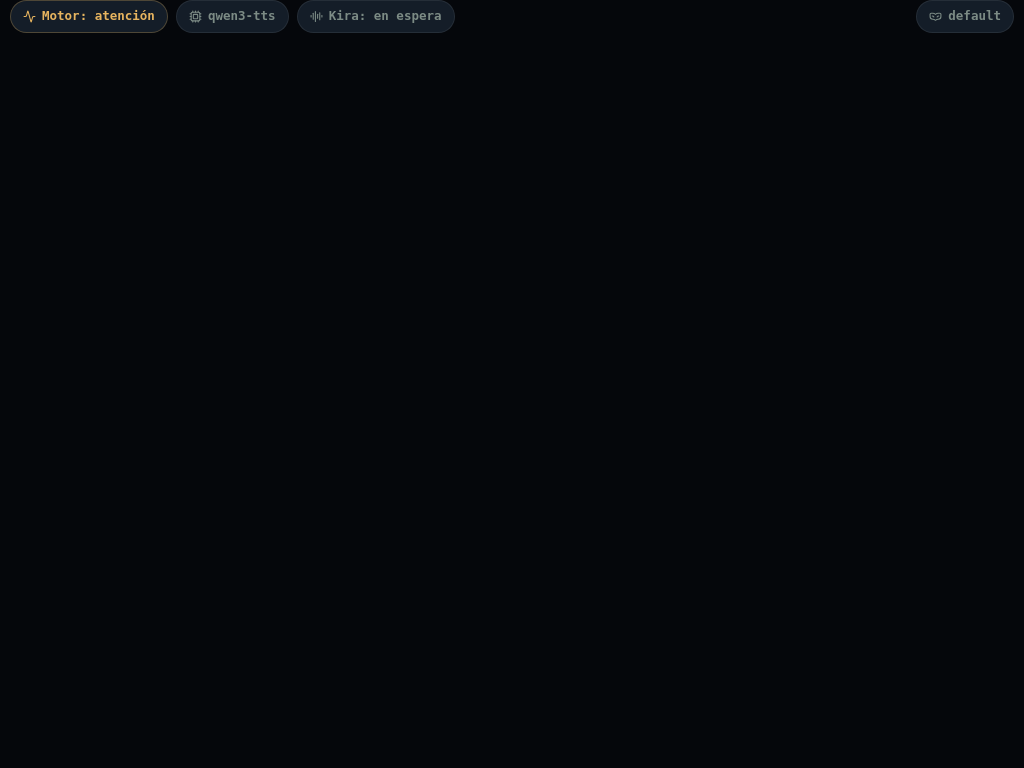
Scenario: StatusRail (spec §3a — calm cockpit readout) › rolls up health=yellow (model ready) as an 'atención' state naming the dimension in its popover
Step 1. Click the button "Motor: atención" → (89, 16), box [10,0,168,33]
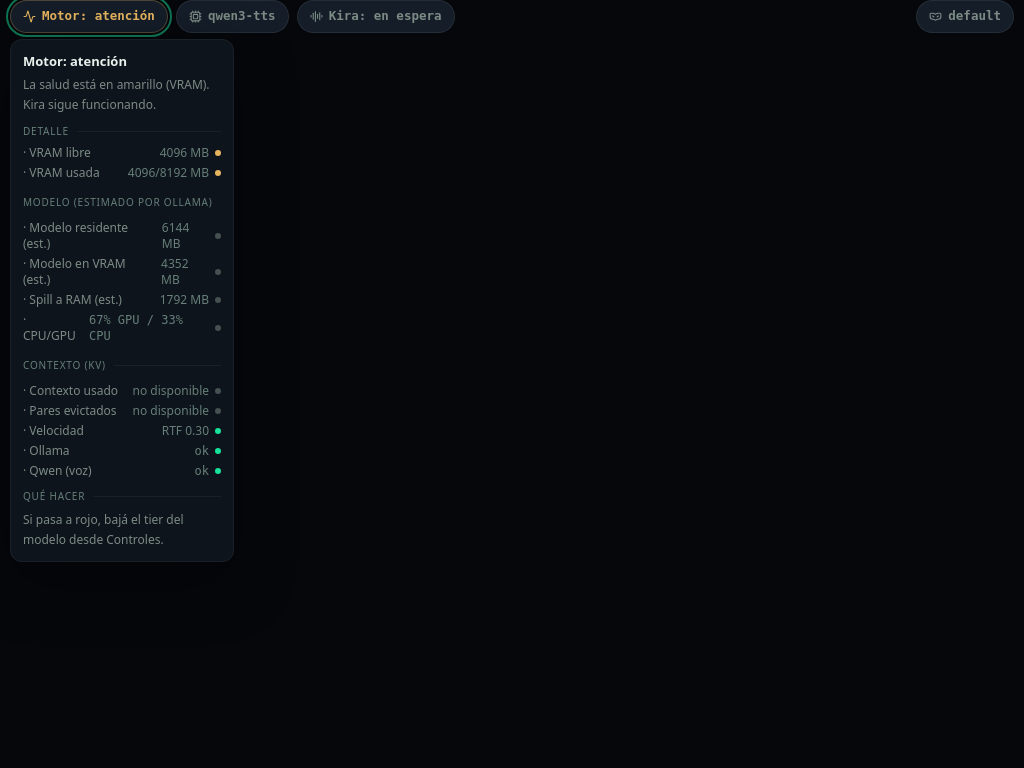
Expected: the dialog "Motor: atención" shows "La salud está en amarillo (VRAM)", [23,76,210,113]
Expected: the dialog "Motor: atención" shows "Kira sigue funcionando", [23,76,210,113]
